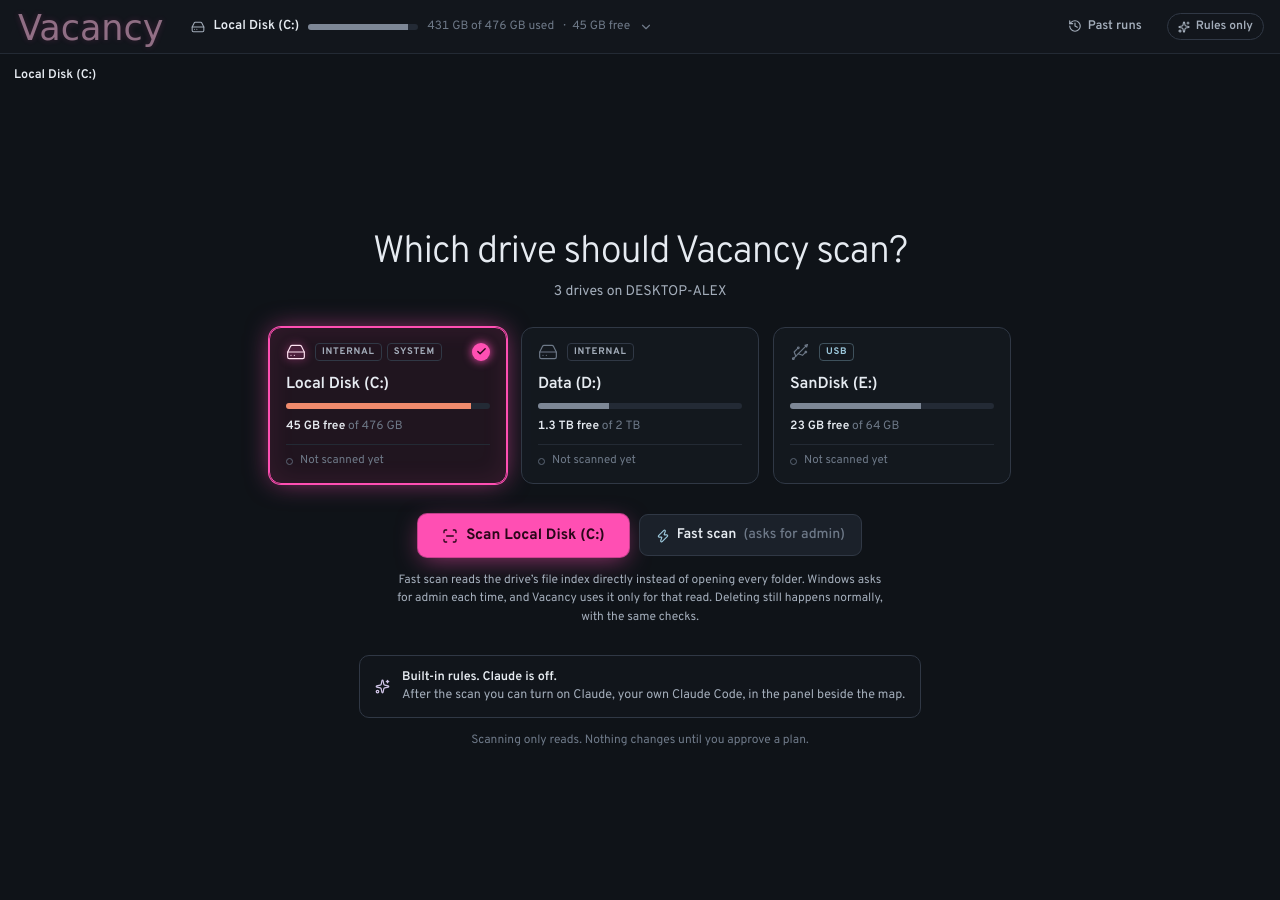
Test case: past runs › lists each drive’s runs, newest first, with when each ran and what it freed
Click the button "Past runs": (1105, 26) left=1057, top=13, right=1153, bottom=39
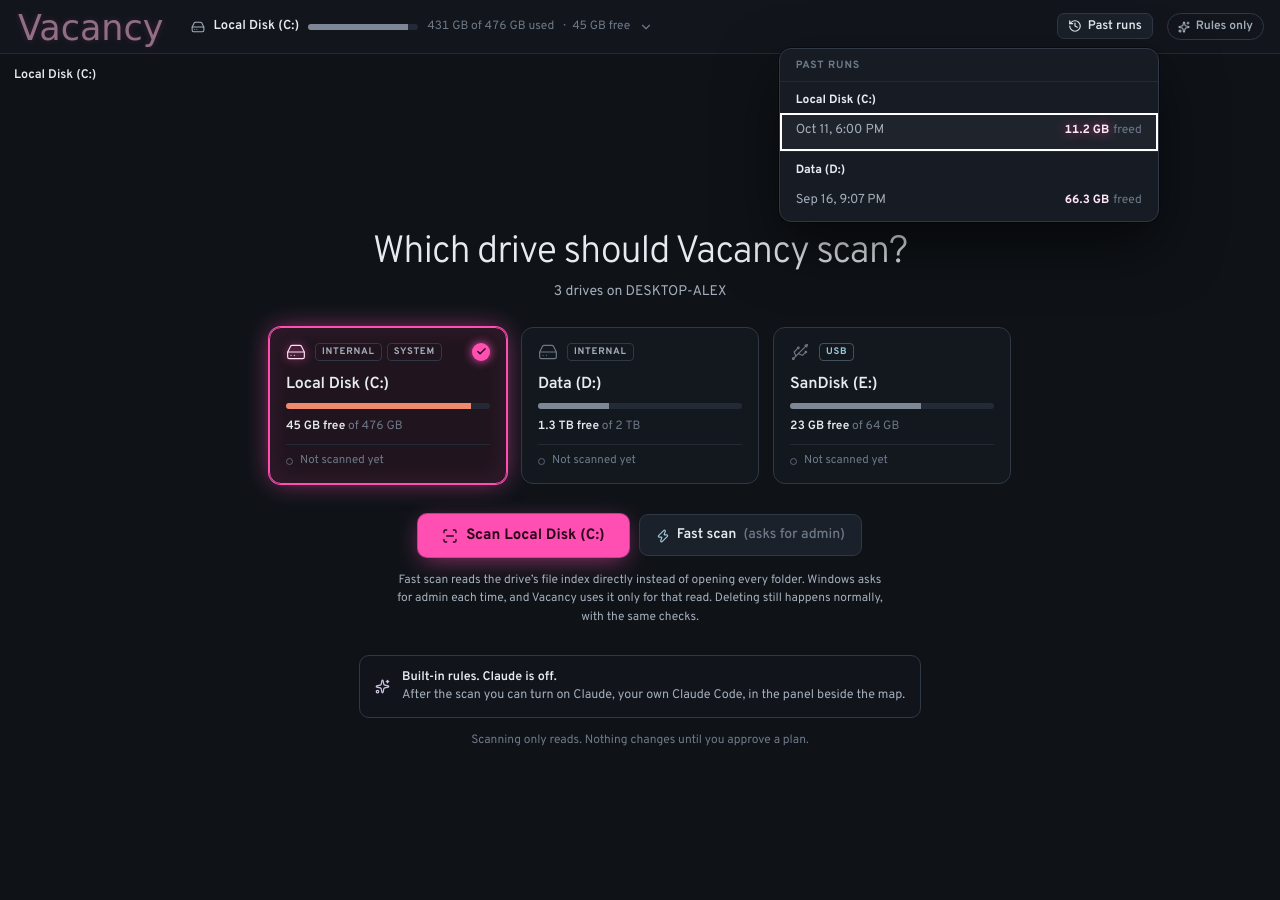
Press Arrowdown
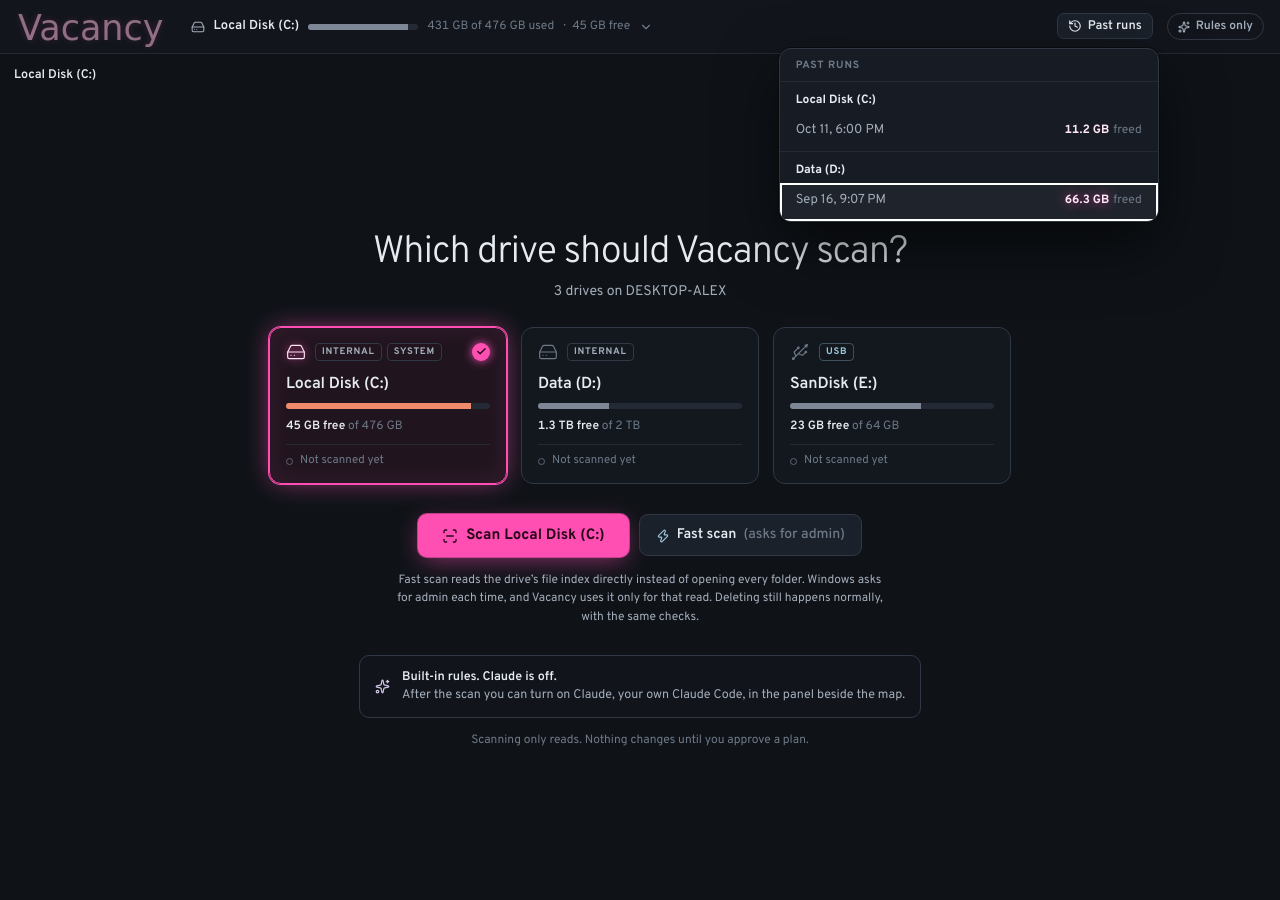
Press Escape
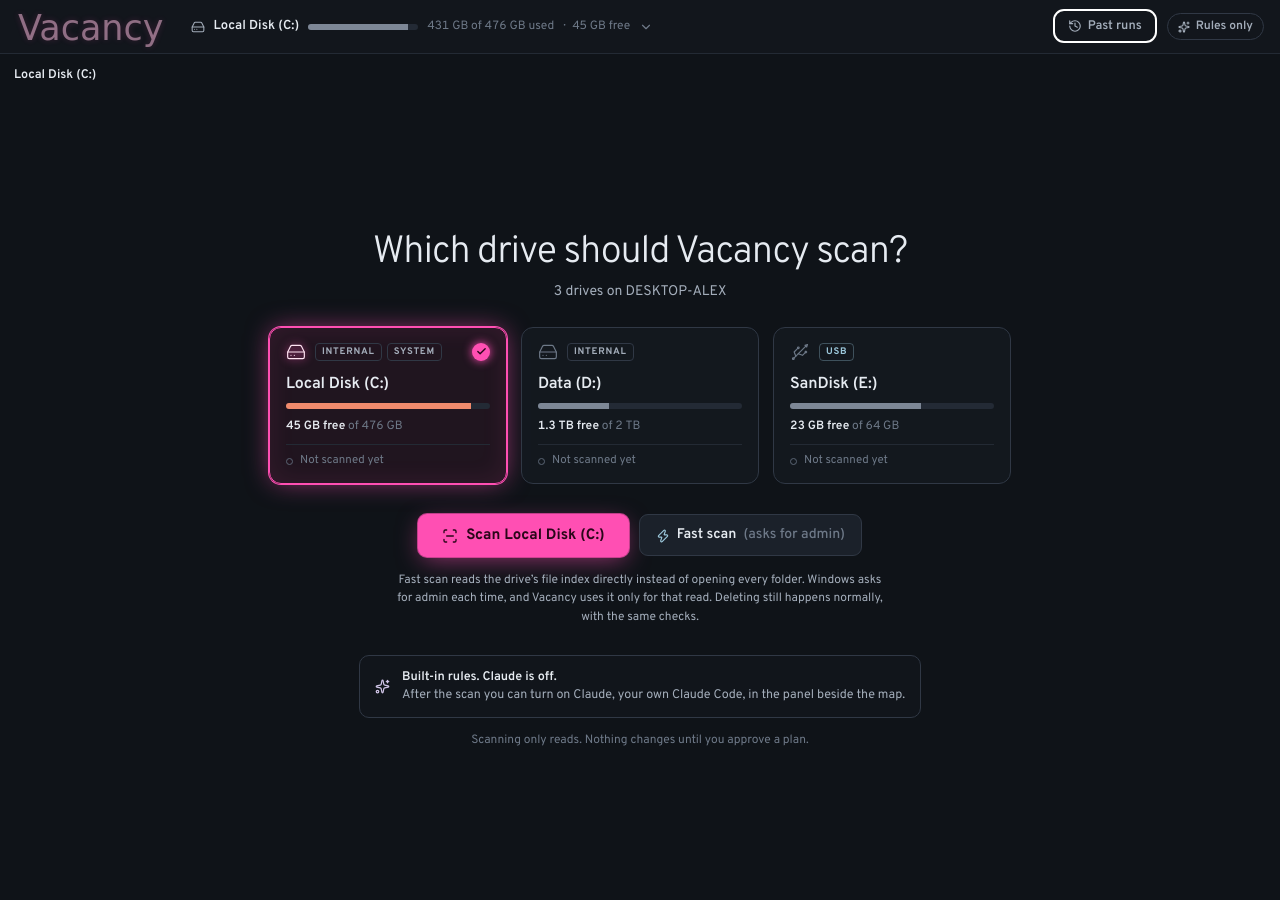
Check: the menu is gone
